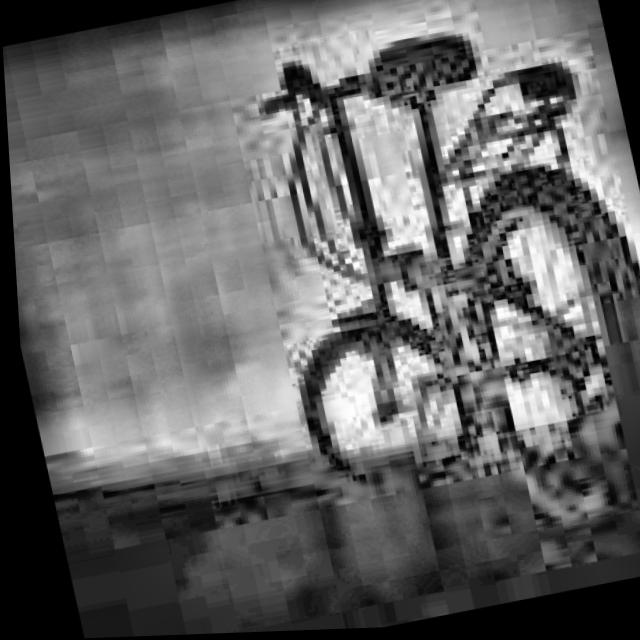motorcycle: (216, 0, 640, 594)
